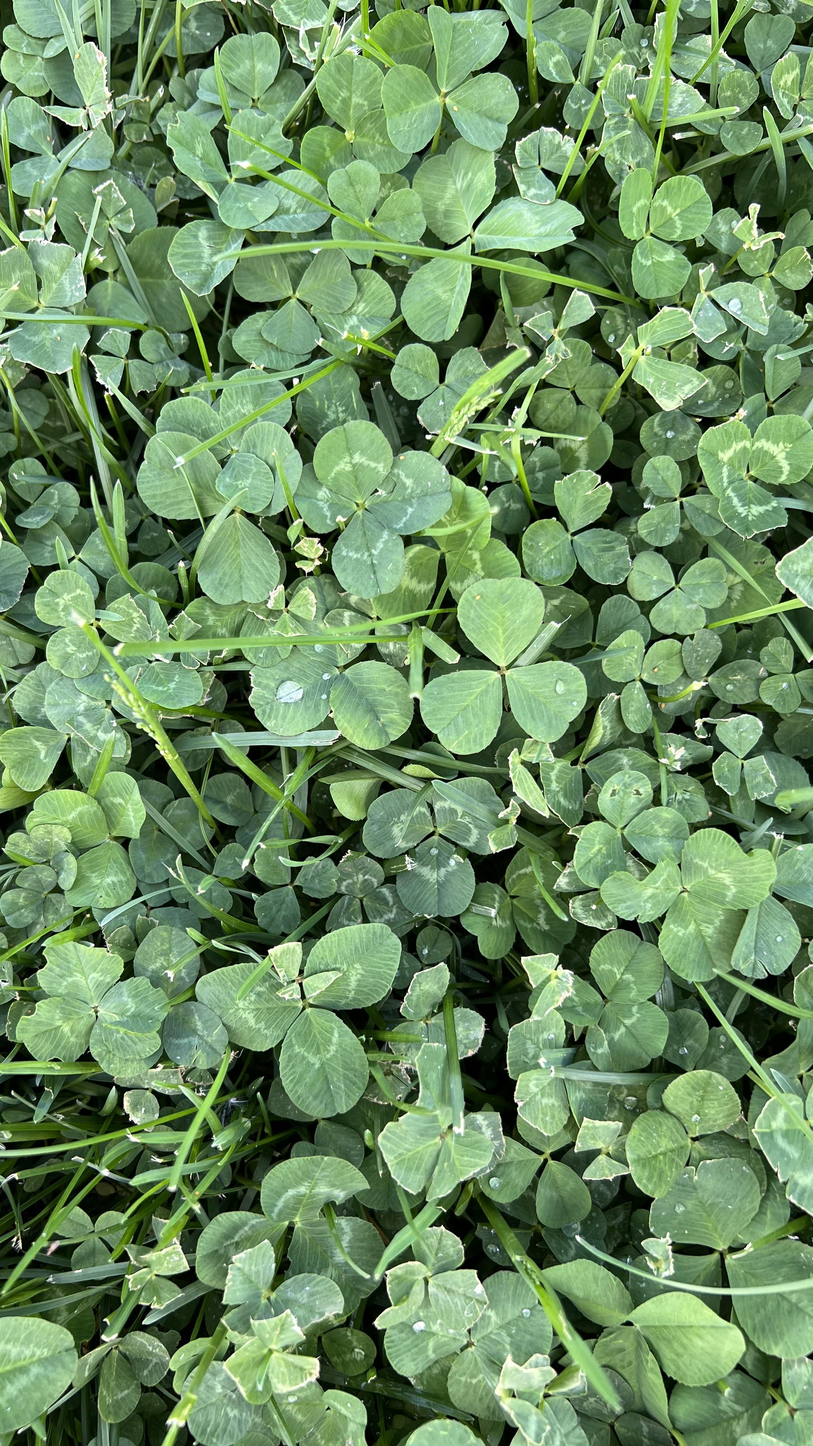4-Leaf-Clovers: (238, 633, 336, 927), (527, 1143, 607, 1421)
